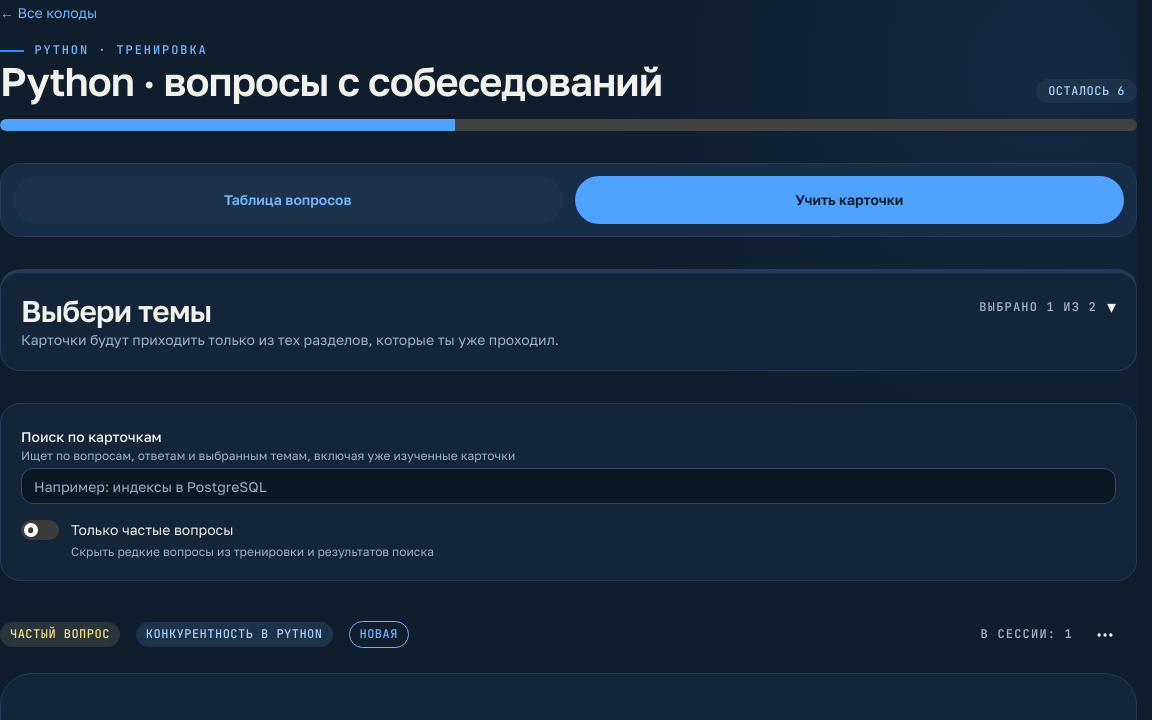
Test: фильтрует частые карточки и ищет по всей выбранной колоде
Step 1. Click the switch labelled "Только частые вопросы" → (228, 540), box [21, 520, 434, 559]
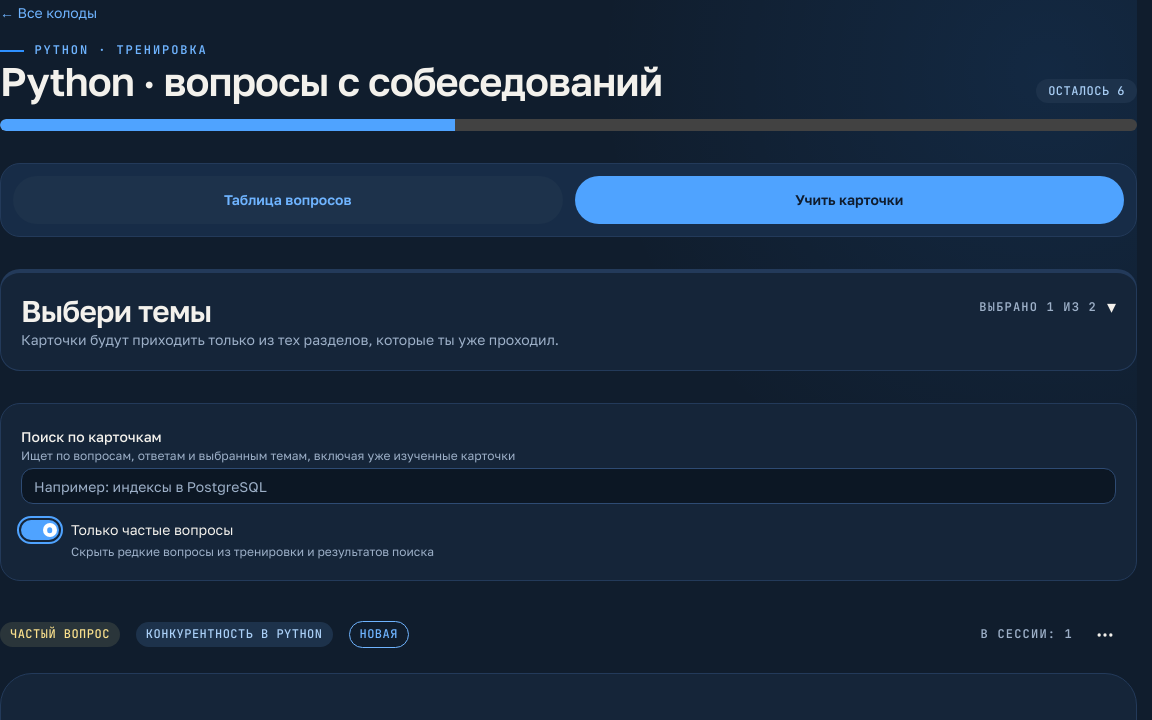
Step 2. Type "GIL" into the field labelled "Поиск по карточкам" → (568, 486), box [21, 468, 1116, 504]
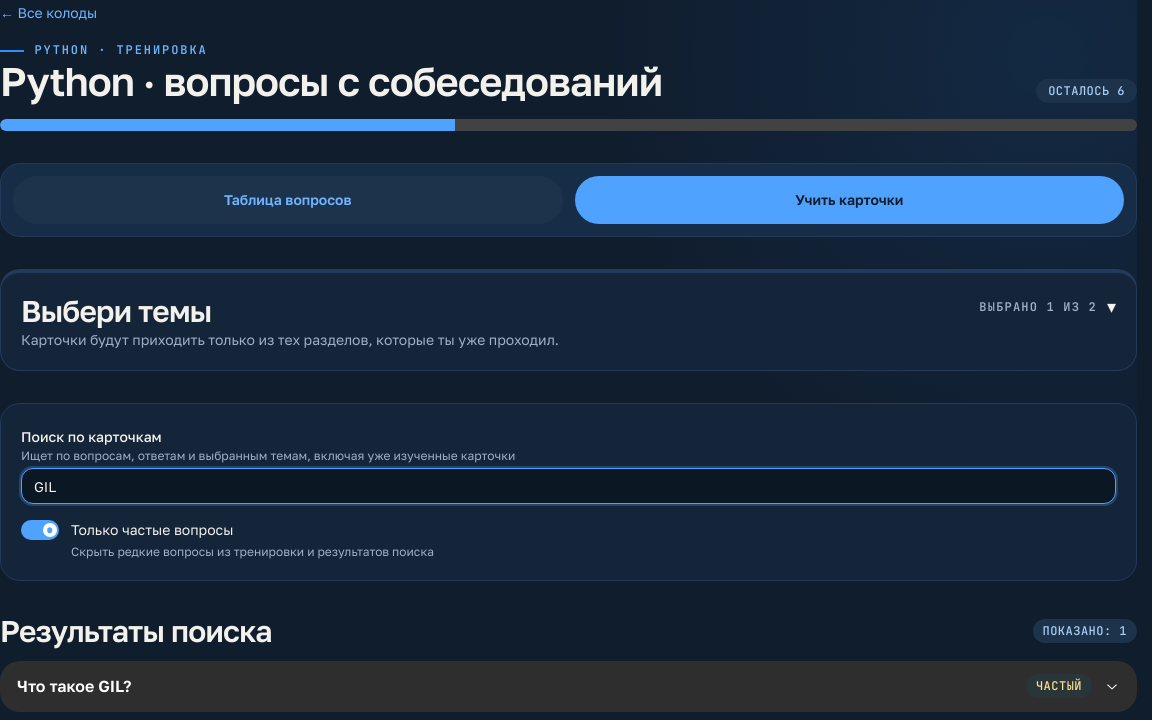
Expected: the heading "Результаты поиска" is shown, [0, 613, 272, 649]
Step 3. Click the button "Что такое GIL? Частый" → (74, 686), box [1, 662, 1136, 711]
(page scrolled)
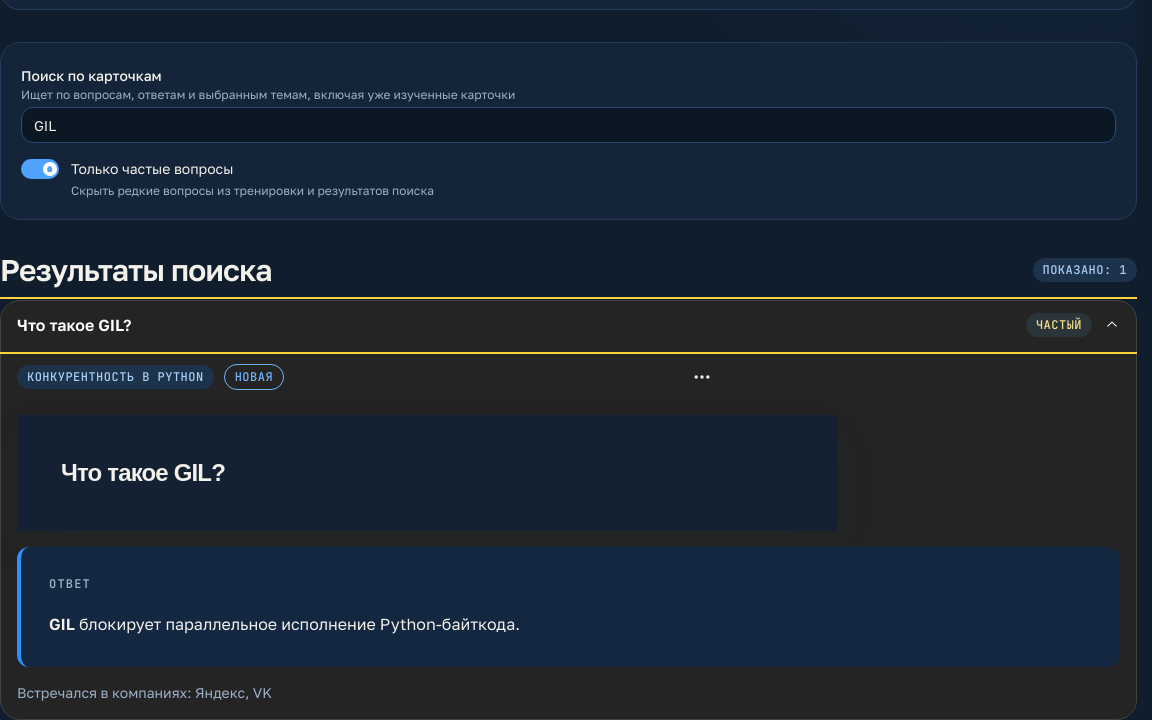
Expected: the text "GIL блокирует параллельное исполнение Python-байткода." is shown, [49, 614, 520, 634]
